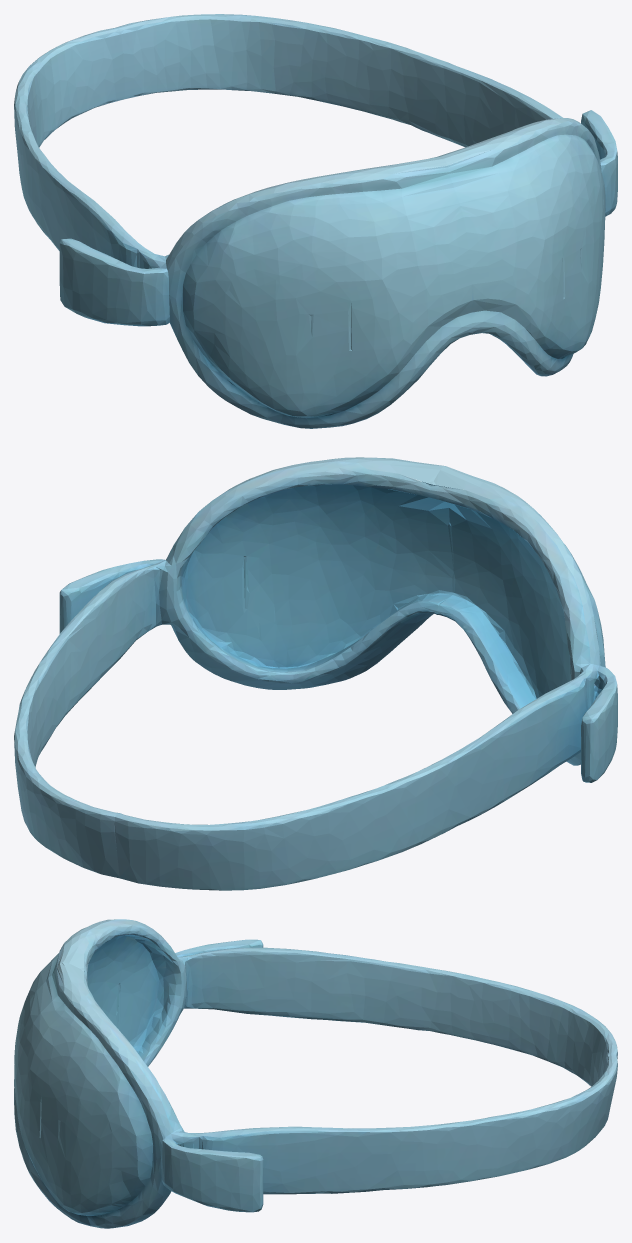
File: blue_sleep_mask.glb
The picture shows the model from 3 angles, top to bottom: view 1: azimuth 30°, elevation 25°; view 2: azimuth 150°, elevation 25°; view 3: azimuth 270°, elevation 25°; orthographic projection. The views are drawn at different scales.
Visible parts, largest first — view 1: geometry_0.004; view 2: geometry_0.004; view 3: geometry_0.004.
Part boxes in pixels (<box>): geometry_0.004: <box>14,14,617,428</box>; geometry_0.004: <box>14,457,617,890</box>; geometry_0.004: <box>14,919,617,1228</box>.
Bounding box in the file's own units: 0.577 × 0.2529 × 0.67.
Materials: 1 (1 with a texture image).
